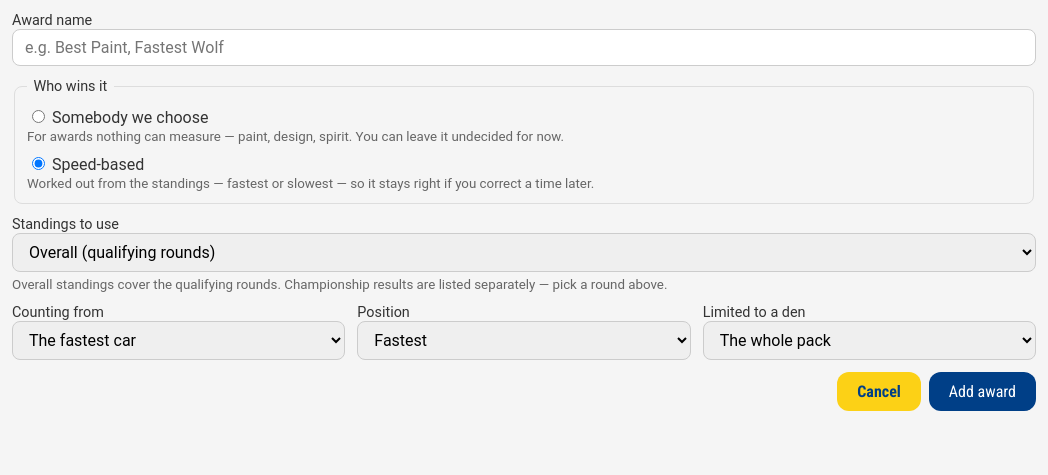
Test case: AwardForm › swaps the whole second half when the kind changes
The width and height of the screenshot is (1048, 475).
Click the radio button labelled "Somebody we choose".
click(38, 116)  # box [32,110,45,123]
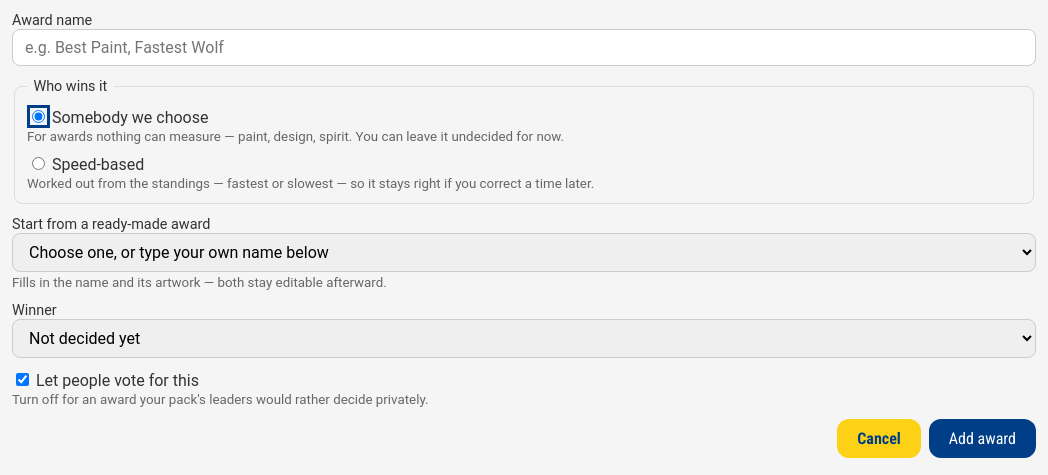
Check: the dropdown labelled "Winner" is shown, box [12,319,1036,358]
Check: the label labelled "Standings to use" is gone
Check: the label labelled "Position" is gone
